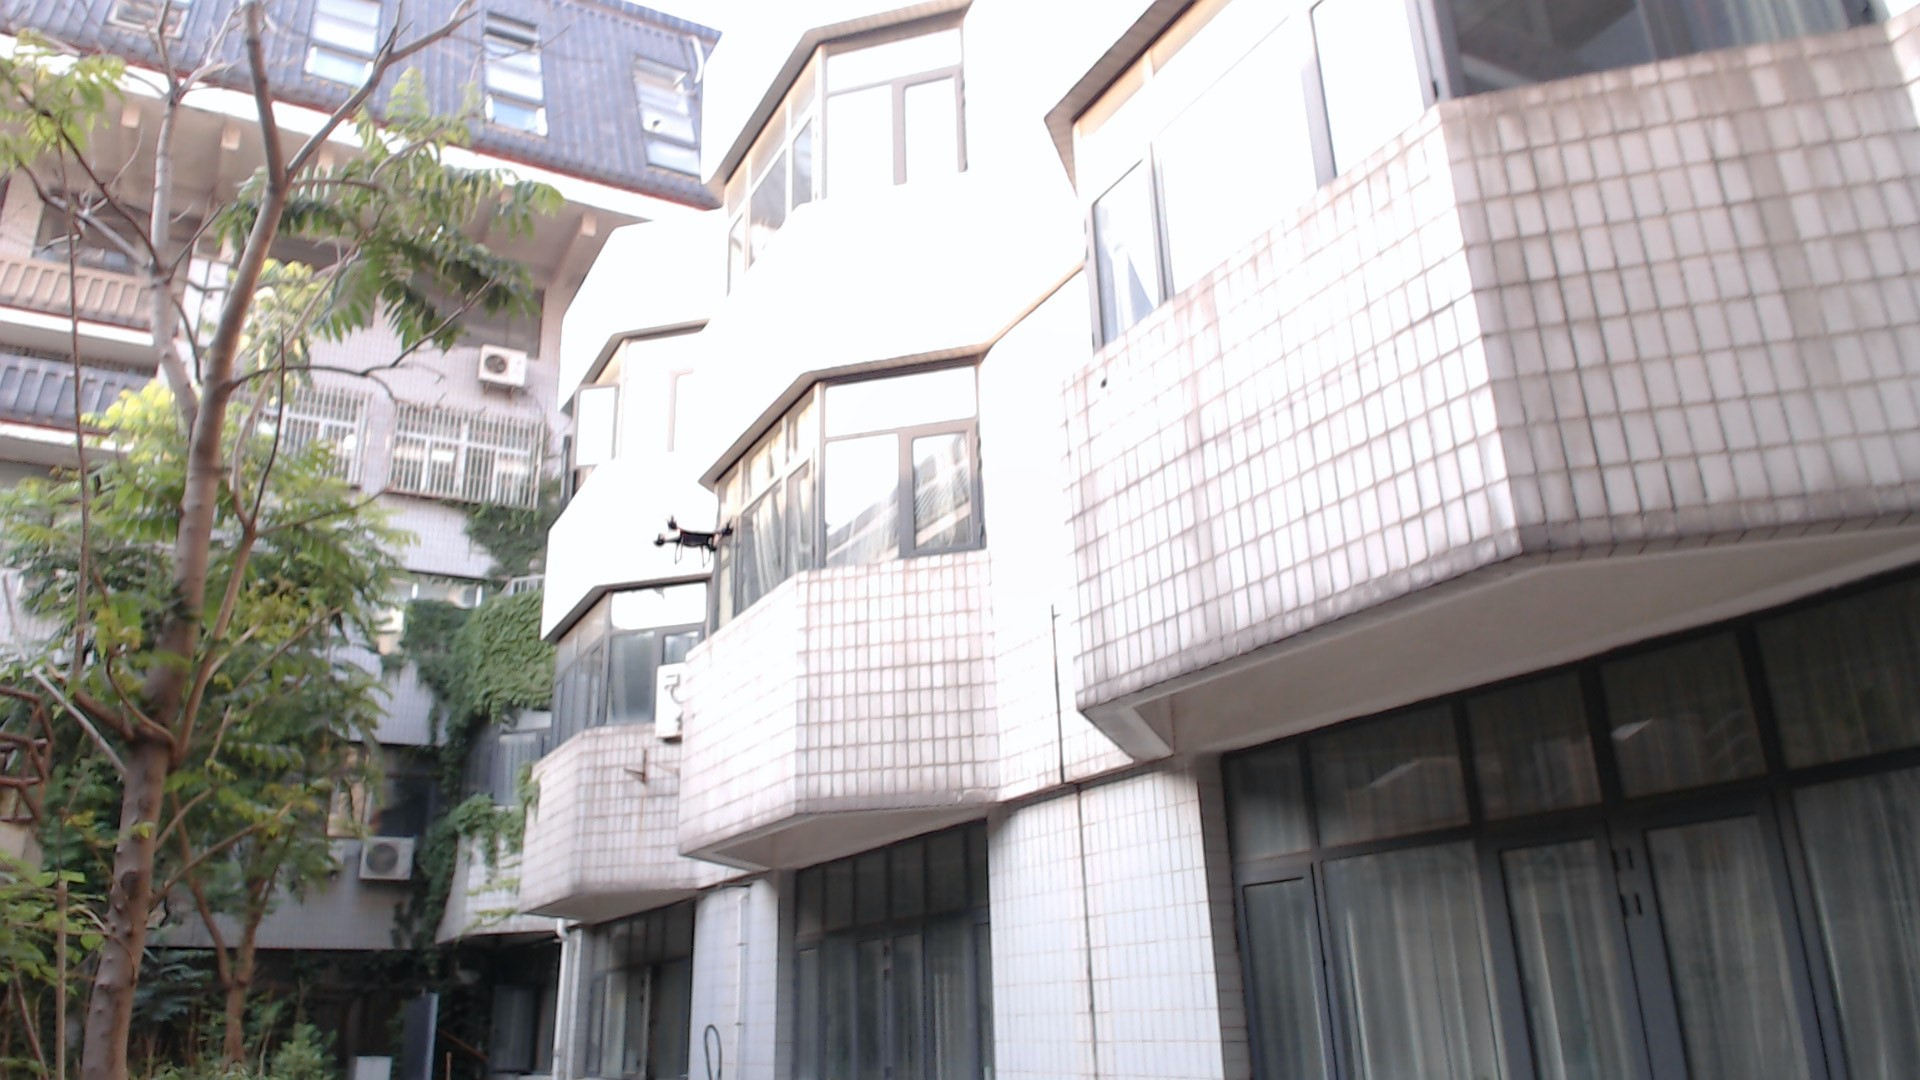drone: (638, 506, 761, 572)
